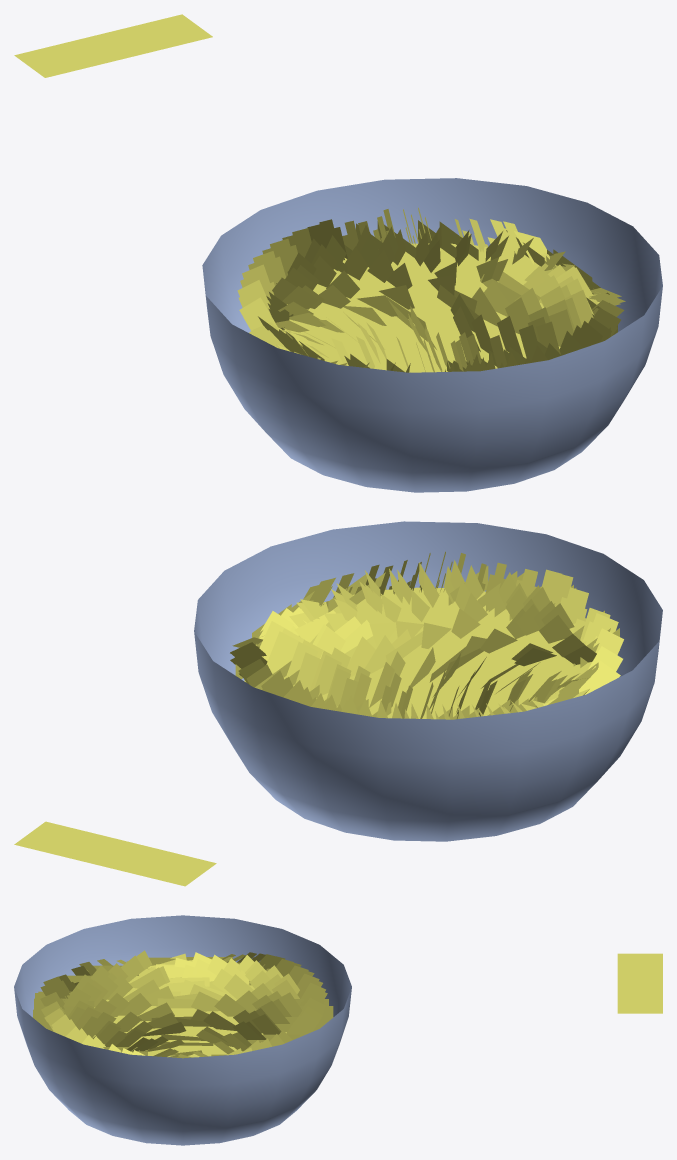
File: plato_con_queso_rallado.glb
3 renders of one model, top to bottom at view 1: azimuth 30°, elevation 25°; view 2: azimuth 150°, elevation 25°; view 3: azimuth 270°, elevation 25°, orthographic. The views are drawn at different scales.
Parts seen in each view (by area): view 1: Sphere, Circle, queso; view 2: Sphere, Circle, queso (×6); view 3: Sphere, queso (×7), Circle.
Boxes of the visible parts, bbox=[...] form: Sphere: bbox=[202, 178, 662, 492]; Circle: bbox=[276, 243, 599, 372]; queso: bbox=[14, 14, 212, 77]; Sphere: bbox=[194, 521, 662, 841]; Circle: bbox=[267, 587, 591, 719]; queso (×6): bbox=[14, 615, 572, 886]; Sphere: bbox=[14, 915, 351, 1145]; queso (×7): bbox=[119, 953, 662, 1030]; Circle: bbox=[92, 967, 286, 1057].
Bounding box in the file's own units: 2 × 0.7136 × 3.84.
